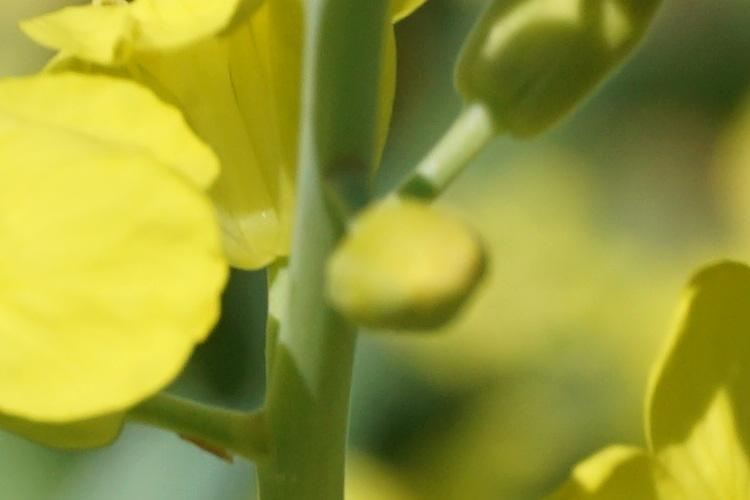bud: (324, 189, 483, 330), (478, 10, 657, 130)
yellow: (7, 76, 237, 444), (67, 12, 371, 262), (597, 255, 749, 500)
